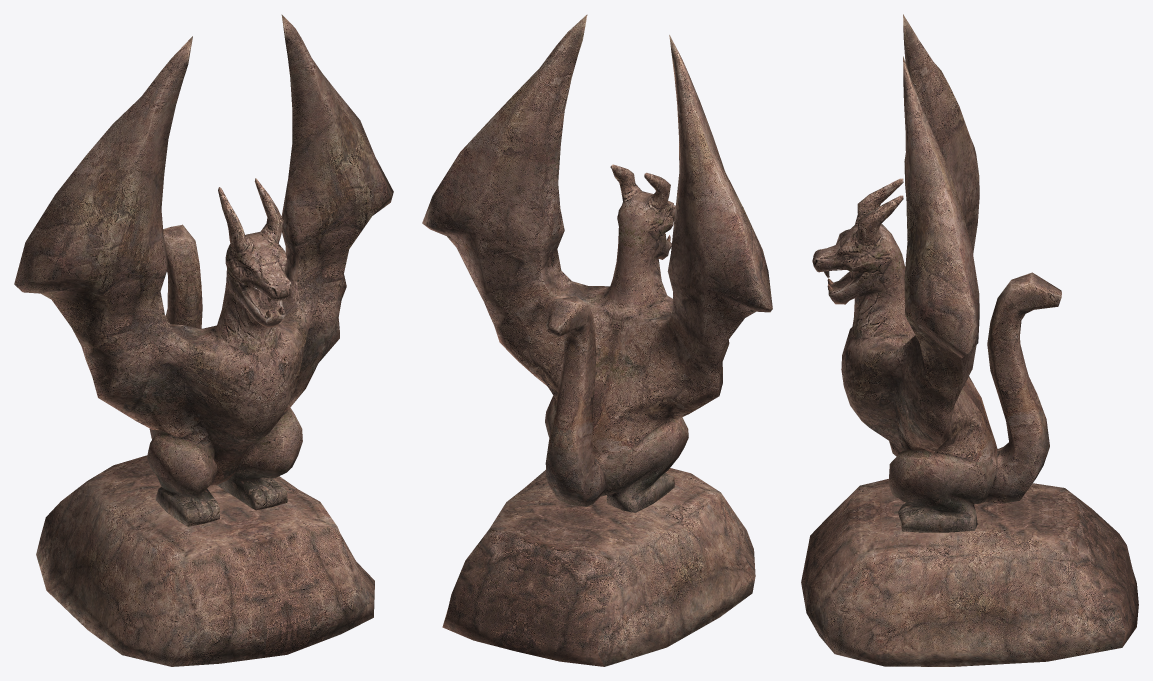
The model's file is deco.fbx.
The picture shows the model from 3 angles, left to right: view 1: azimuth 30°, elevation 25°; view 2: azimuth 150°, elevation 25°; view 3: azimuth 270°, elevation 25°; orthographic projection. The views are drawn at different scales.
Parts seen in each view (by area): view 1: LV_Nigraturis_Object_WyvernStatue_SM_HSH; view 2: LV_Nigraturis_Object_WyvernStatue_SM_HSH; view 3: LV_Nigraturis_Object_WyvernStatue_SM_HSH.
Boxes of the visible parts, <box> form: LV_Nigraturis_Object_WyvernStatue_SM_HSH: <box>14,14,393,666</box>; LV_Nigraturis_Object_WyvernStatue_SM_HSH: <box>422,14,772,666</box>; LV_Nigraturis_Object_WyvernStatue_SM_HSH: <box>801,14,1138,666</box>.
Size of the model in its own units: 1.02 by 1.52 by 0.8102.
Materials: 1 (1 with a texture image).
